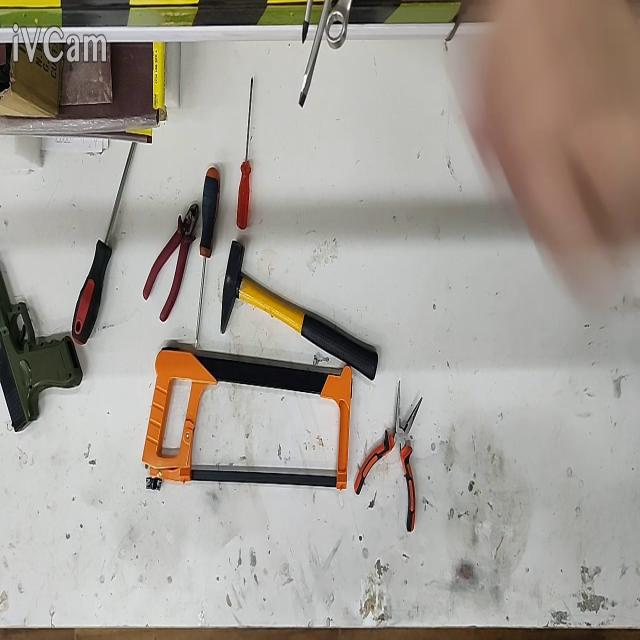Screwdriver: (72, 141, 136, 344), (195, 167, 220, 346), (237, 77, 253, 230)
